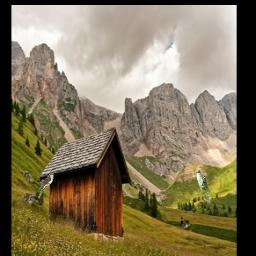Cuckoo: (196, 170, 211, 205), (38, 174, 54, 199)
